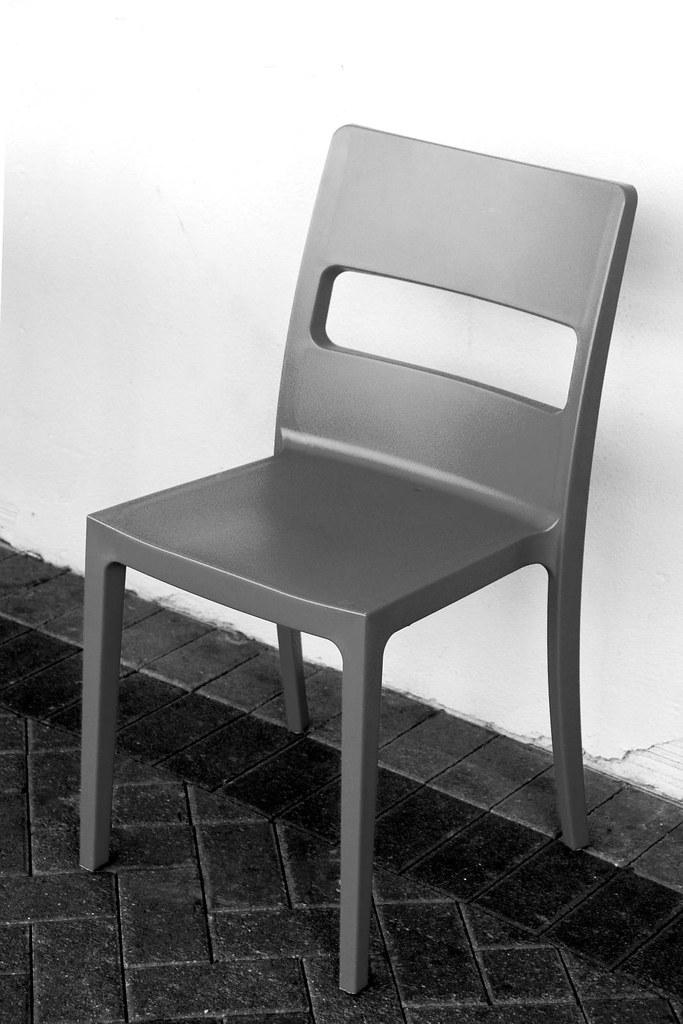chair: (77, 123, 638, 995)
